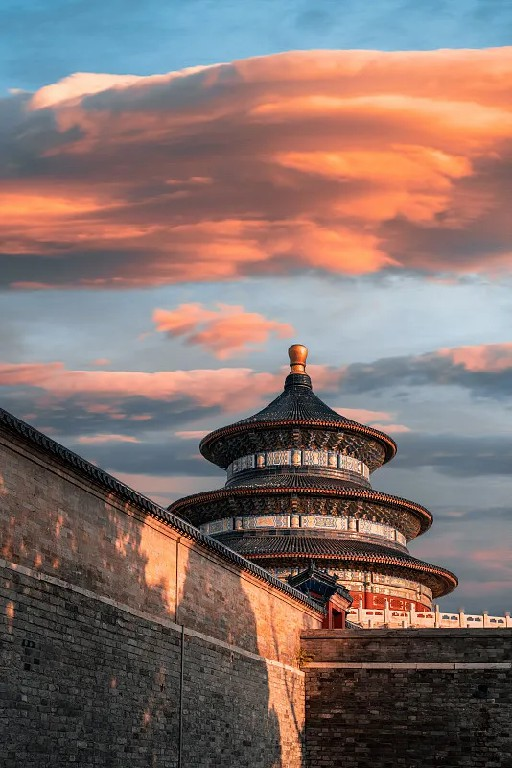Heaven: (164, 346, 458, 629)
